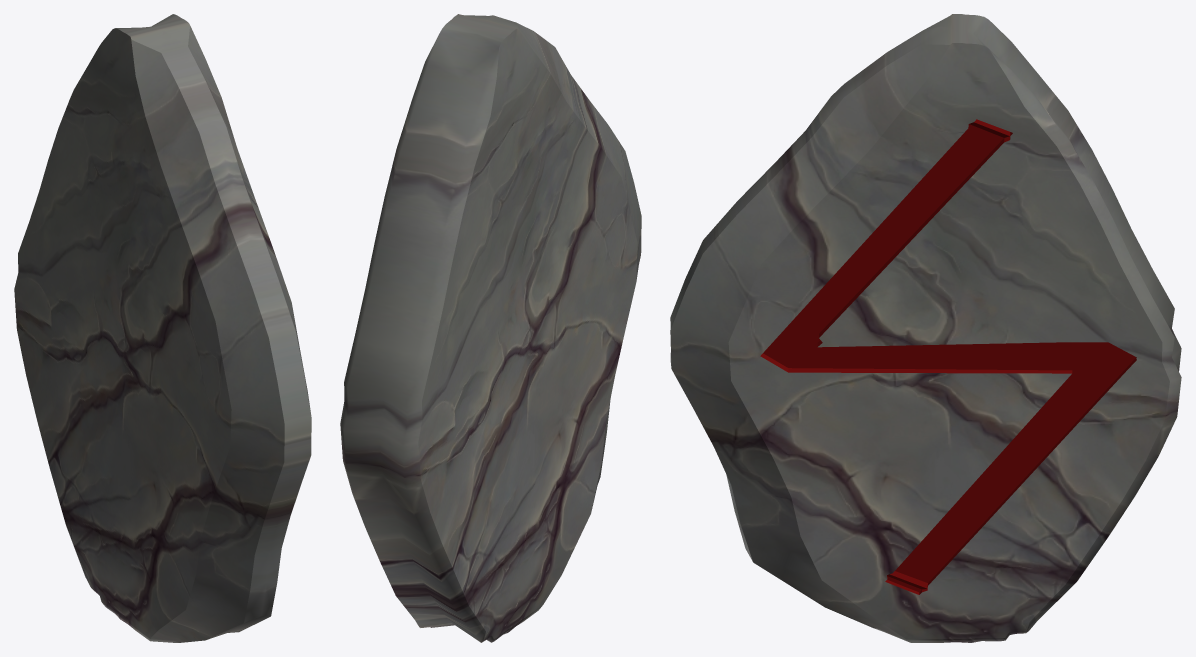
Rendered from Rune_Pyro.fbx.
The picture shows the model from 3 angles, left to right: view 1: azimuth 30°, elevation 25°; view 2: azimuth 150°, elevation 25°; view 3: azimuth 270°, elevation 25°; orthographic projection.
Parts seen in each view (by area): view 1: Rune_Pyro; view 2: Rune_Pyro; view 3: Rune_Pyro.
Boxes of the visible parts, x1,y1,x2,y2 form: Rune_Pyro: (14,14,311,642); Rune_Pyro: (340,14,641,642); Rune_Pyro: (670,14,1181,642).
Size of the model in its own units: 9.93 by 72.95 by 56.17.
